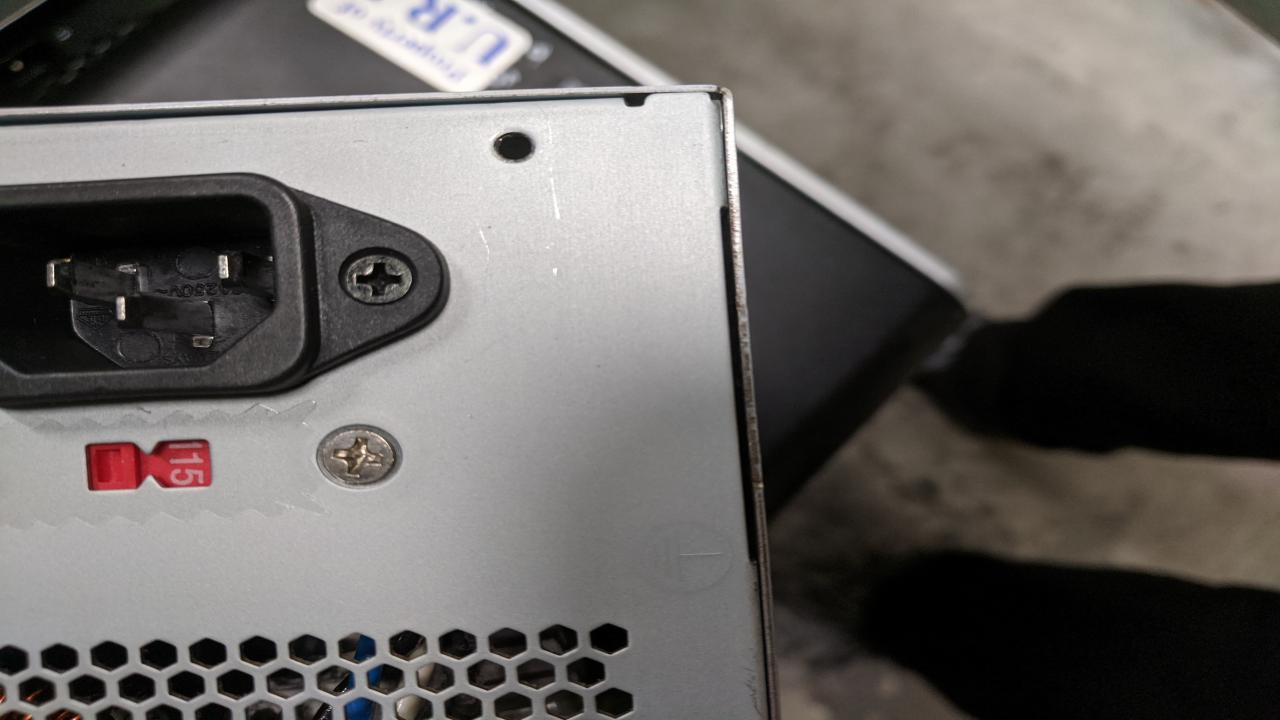CRS: (317, 428, 400, 486), (336, 247, 413, 307)
